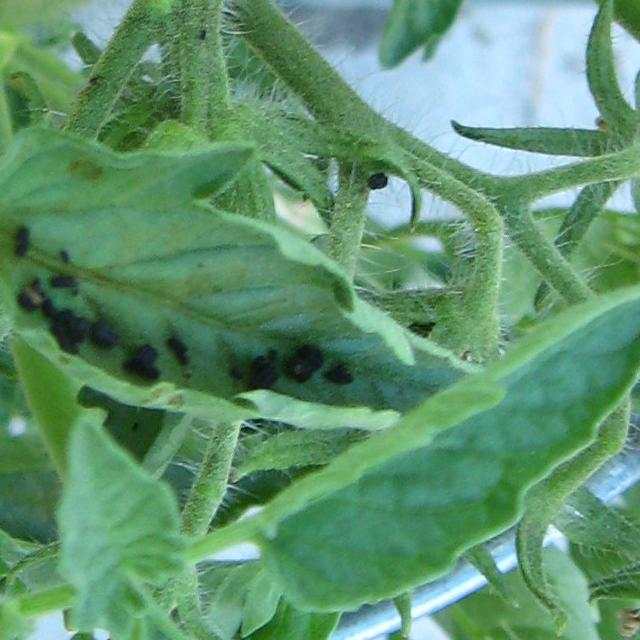Tomato leaf: (231, 268, 640, 601)
